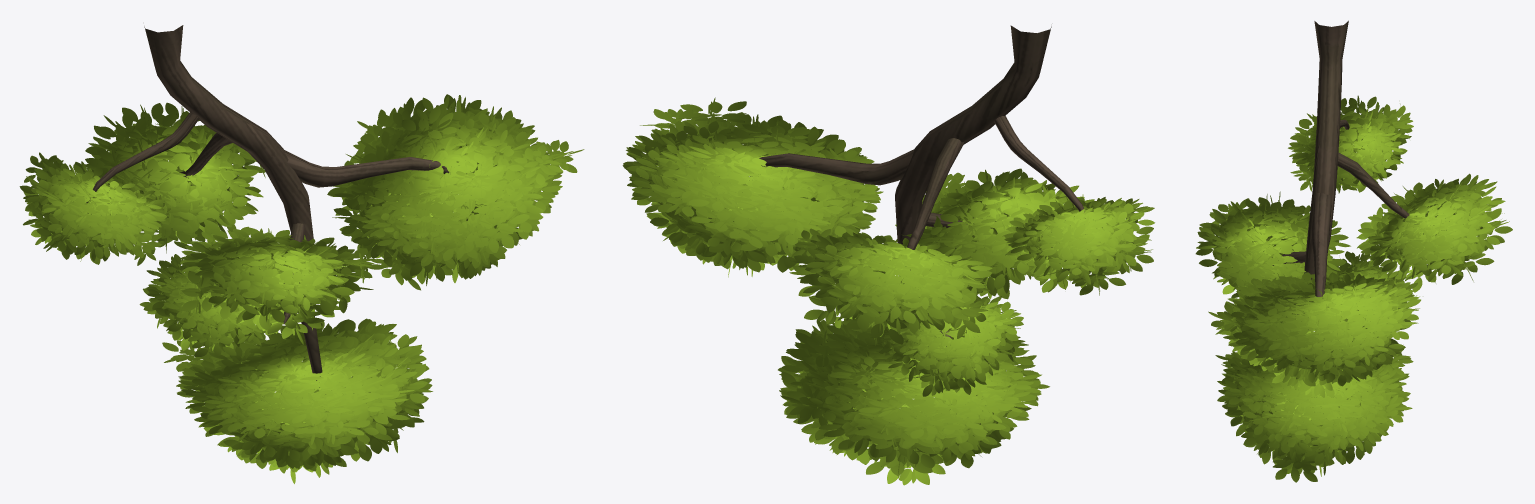
Rendered from anime-tree-garden.glb.
3 renders of one model, left to right at view 1: azimuth 30°, elevation 25°; view 2: azimuth 150°, elevation 25°; view 3: azimuth 270°, elevation 25°, orthographic. The views are drawn at different scales.
Parts seen in each view (by area): view 1: anime-tree-garden; view 2: anime-tree-garden; view 3: anime-tree-garden.
Boxes of the visible parts, x1,y1,x2,y2 form: anime-tree-garden: (19, 25, 584, 483); anime-tree-garden: (622, 25, 1154, 485); anime-tree-garden: (1195, 20, 1512, 482).
Bounding box in the file's own units: 4.8 × 4.25 × 3.17.
Materials: 2 (2 with a texture image).
